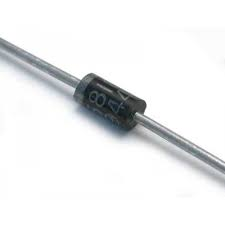diode: (31, 31, 169, 178)
